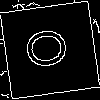O: (24, 25, 77, 71)
